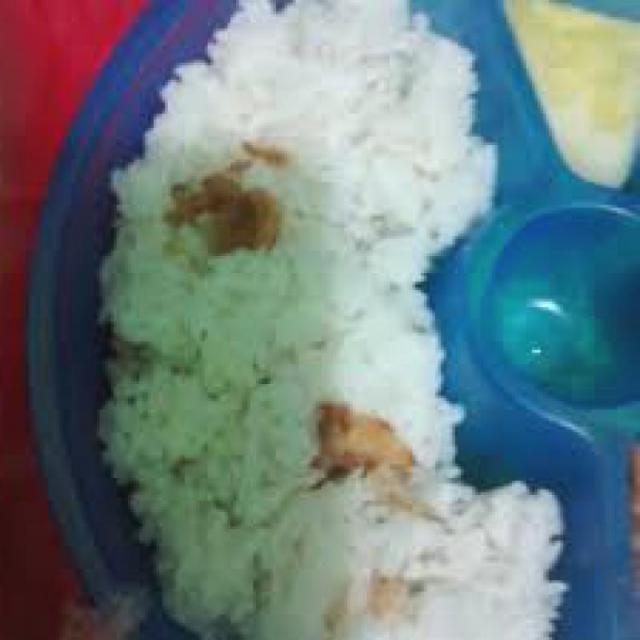rice: (98, 0, 564, 639)
